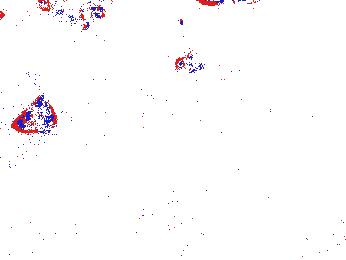X-ray fish: (12, 103, 57, 134), (51, 1, 107, 25)
red belly glassfish: (174, 54, 207, 76), (278, 28, 297, 49)
